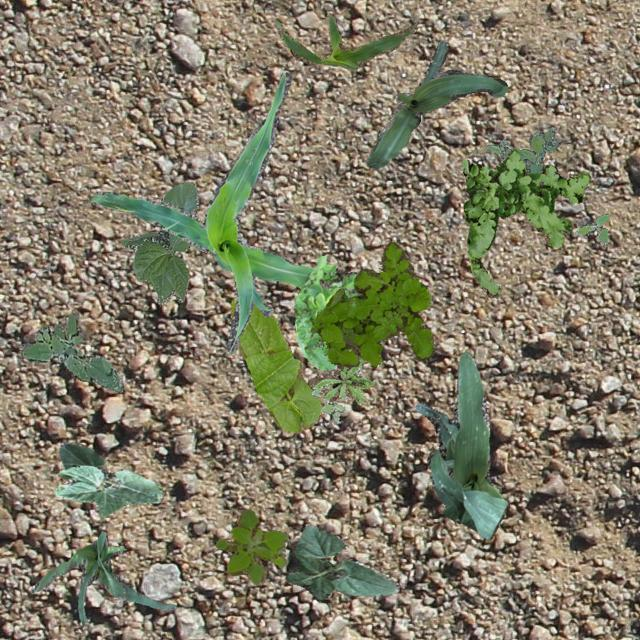crop: (88, 70, 316, 352), (366, 39, 506, 168), (414, 351, 506, 538), (29, 530, 174, 626), (230, 298, 320, 432), (120, 180, 198, 304), (284, 524, 398, 600), (54, 442, 162, 516), (274, 12, 416, 68)
weed: (460, 148, 590, 296), (312, 240, 434, 368), (18, 310, 122, 390), (293, 254, 362, 370), (215, 508, 288, 584), (484, 126, 560, 172), (308, 356, 372, 404), (310, 382, 346, 422), (576, 212, 608, 245)
